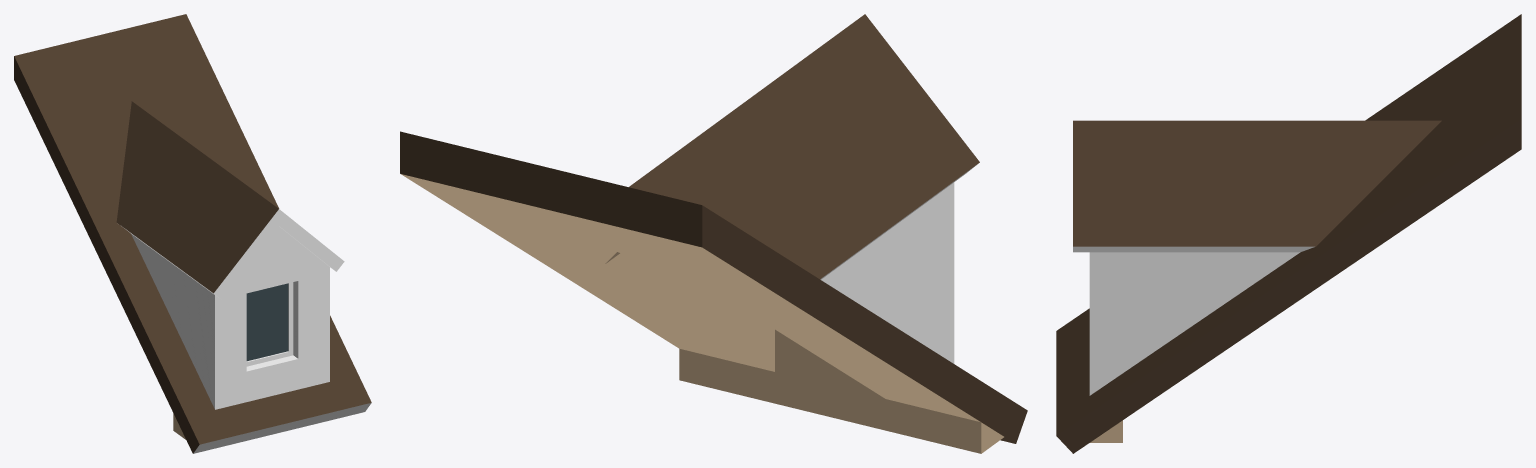
The model's file is buildings_house-roof-window-3x3m.fbx.
The picture shows the model from 3 angles, left to right: view 1: azimuth 30°, elevation 25°; view 2: azimuth 150°, elevation 25°; view 3: azimuth 270°, elevation 25°; orthographic projection. The views are drawn at different scales.
Parts seen in each view (by area): view 1: buildings_house_roof_window_3x3m; view 2: buildings_house_roof_window_3x3m; view 3: buildings_house_roof_window_3x3m.
Part boxes in pixels (x1,y1,x2,y2): buildings_house_roof_window_3x3m: (14, 14, 371, 453); buildings_house_roof_window_3x3m: (400, 14, 1027, 453); buildings_house_roof_window_3x3m: (1056, 14, 1521, 453).
Size of the model in its own units: 107 by 159 by 200.
